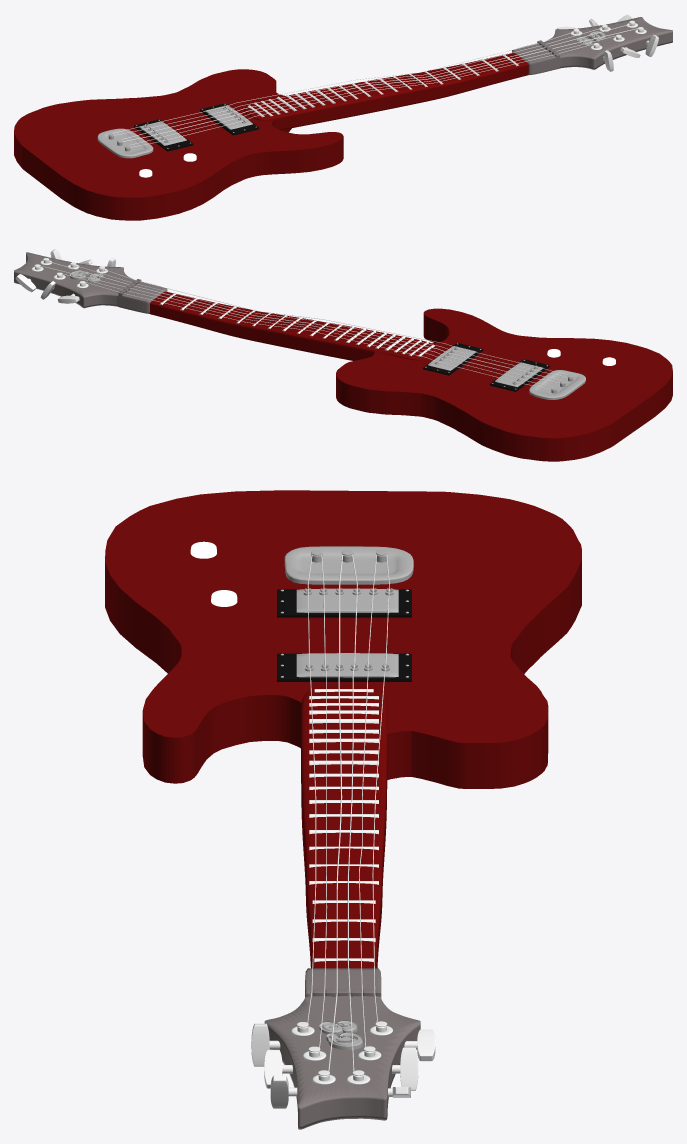
Rendered from Gui4.glb.
3 views of the same model, one above another, from view 1: azimuth 30°, elevation 25°; view 2: azimuth 150°, elevation 25°; view 3: azimuth 270°, elevation 25° (orthographic). The views are drawn at different scales.
Visible parts, largest first — view 1: BigBody, MiddleBody, Smallbody, pCube12, pCylinder29, roap, pCube11, pCube10, pCylinder30, pCylinder31, pCylinder33, pCylinder32 (+2 smaller); view 2: BigBody, MiddleBody, Smallbody, pCube12, pCylinder29, roap, pCube10, pCube11, pCylinder31, pCylinder30, pCylinder33, pCylinder32 (+2 smaller); view 3: BigBody, MiddleBody, Smallbody, pCube12, pCube10, pCube11, pCube9, pCube8, pCylinder29, roap.
Boxes of the visible parts, box(x1,y1,x2,y2) form: BigBody: box(14, 69, 343, 220); MiddleBody: box(244, 53, 528, 130); Smallbody: box(512, 17, 672, 74); pCube12: box(97, 128, 153, 158); pCylinder29: box(121, 28, 637, 142); roap: box(121, 23, 631, 139); pCube11: box(139, 121, 186, 145); pCube10: box(205, 105, 252, 129); pCylinder30: box(129, 36, 615, 145); pCylinder31: box(112, 27, 605, 136); pCylinder33: box(129, 44, 593, 147); pCylinder32: box(113, 31, 576, 133); BigBody: box(336, 308, 672, 461); MiddleBody: box(149, 291, 438, 360); Smallbody: box(14, 252, 167, 313); pCube12: box(529, 370, 585, 399); pCylinder29: box(45, 260, 560, 381); roap: box(41, 266, 560, 383); pCube10: box(428, 346, 476, 370); pCube11: box(495, 362, 542, 387); pCylinder31: box(63, 274, 552, 387); pCylinder30: box(72, 265, 568, 377); pCylinder33: box(102, 269, 568, 375); pCylinder32: box(86, 282, 552, 389); BigBody: box(105, 490, 581, 788); MiddleBody: box(301, 685, 387, 968); Smallbody: box(264, 968, 420, 1129); pCube12: box(284, 546, 413, 584); pCube10: box(296, 653, 398, 677); pCube11: box(296, 588, 398, 612); pCube9: box(277, 589, 411, 617); pCube8: box(277, 653, 411, 681); pCylinder29: box(328, 554, 343, 1071); roap: box(347, 554, 357, 1071).
Size of the model in its own units: 0.0939 by 0.00422 by 0.0315.
